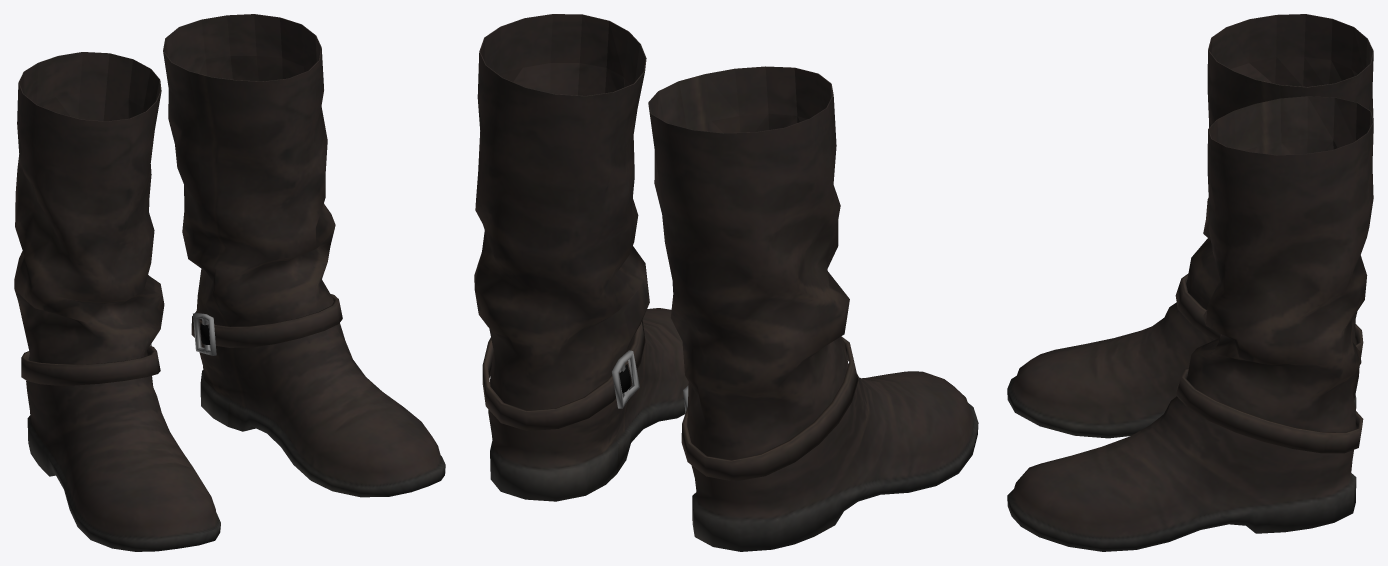
Rendered from Boots 2.fbx.
The picture shows the model from 3 angles, left to right: view 1: azimuth 30°, elevation 25°; view 2: azimuth 150°, elevation 25°; view 3: azimuth 270°, elevation 25°; orthographic projection. The views are drawn at different scales.
Visible parts, largest first — view 1: boots 2; view 2: boots 2; view 3: boots 2.
Boxes of the visible parts, bbox=[...] form: boots 2: bbox=[14, 14, 445, 551]; boots 2: bbox=[474, 14, 978, 551]; boots 2: bbox=[1007, 14, 1373, 551].
Bounding box in the file's own units: 27.32 × 28.3 × 24.48.
Materials: 2 (1 with a texture image).
